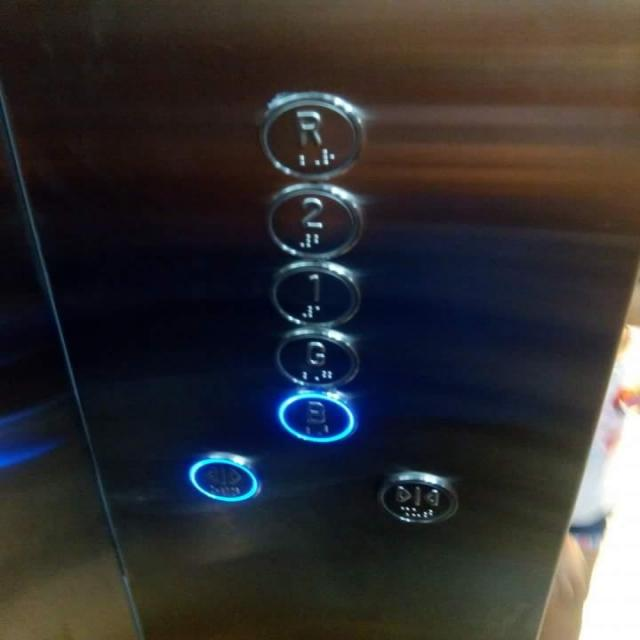1: (263, 258, 366, 328)
2: (262, 179, 364, 258)
B: (273, 390, 358, 442)
G: (270, 325, 361, 391)
R: (257, 91, 363, 180)
close: (377, 470, 459, 524)
open: (183, 448, 265, 504)
